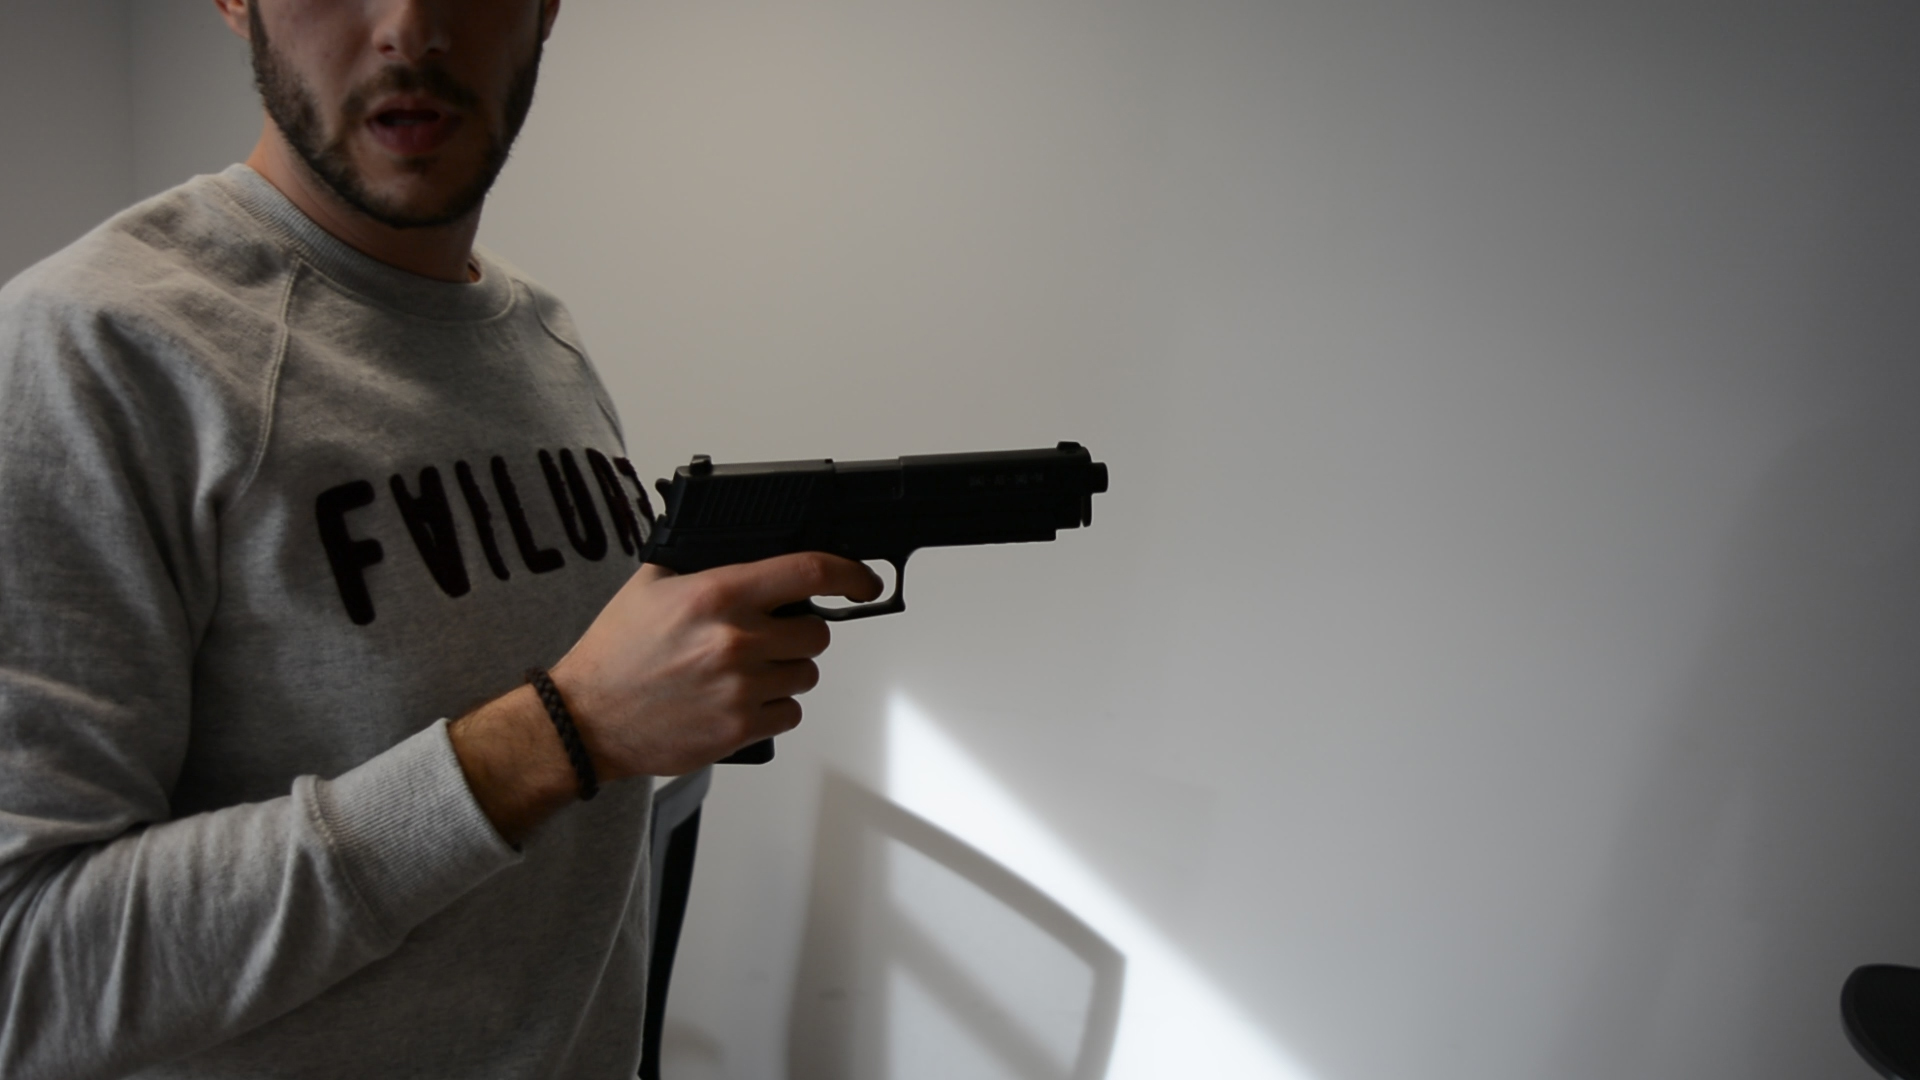pistol: (636, 438, 1112, 767)
